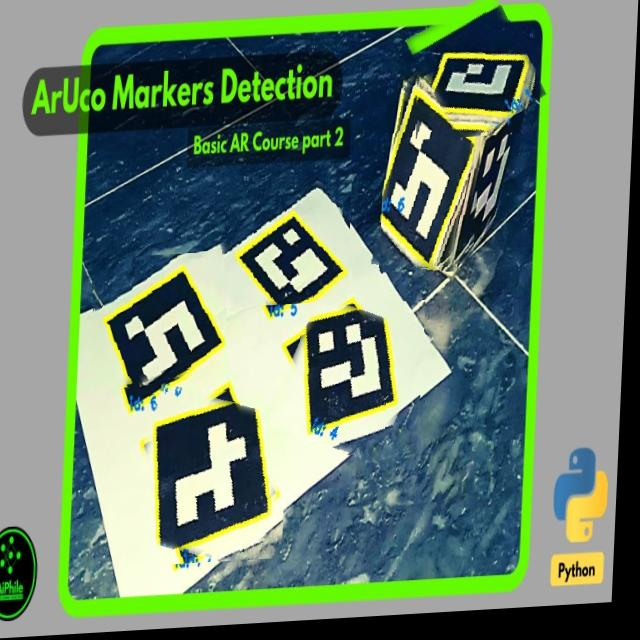aruco: (124, 389, 293, 569), (276, 306, 428, 465), (381, 67, 487, 279), (215, 175, 354, 312), (92, 254, 232, 390), (414, 1, 539, 145)
